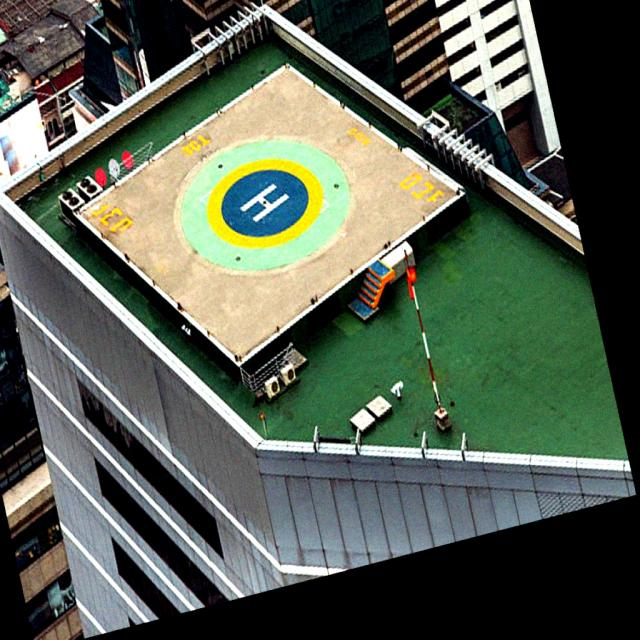helipad: (203, 156, 327, 252)
